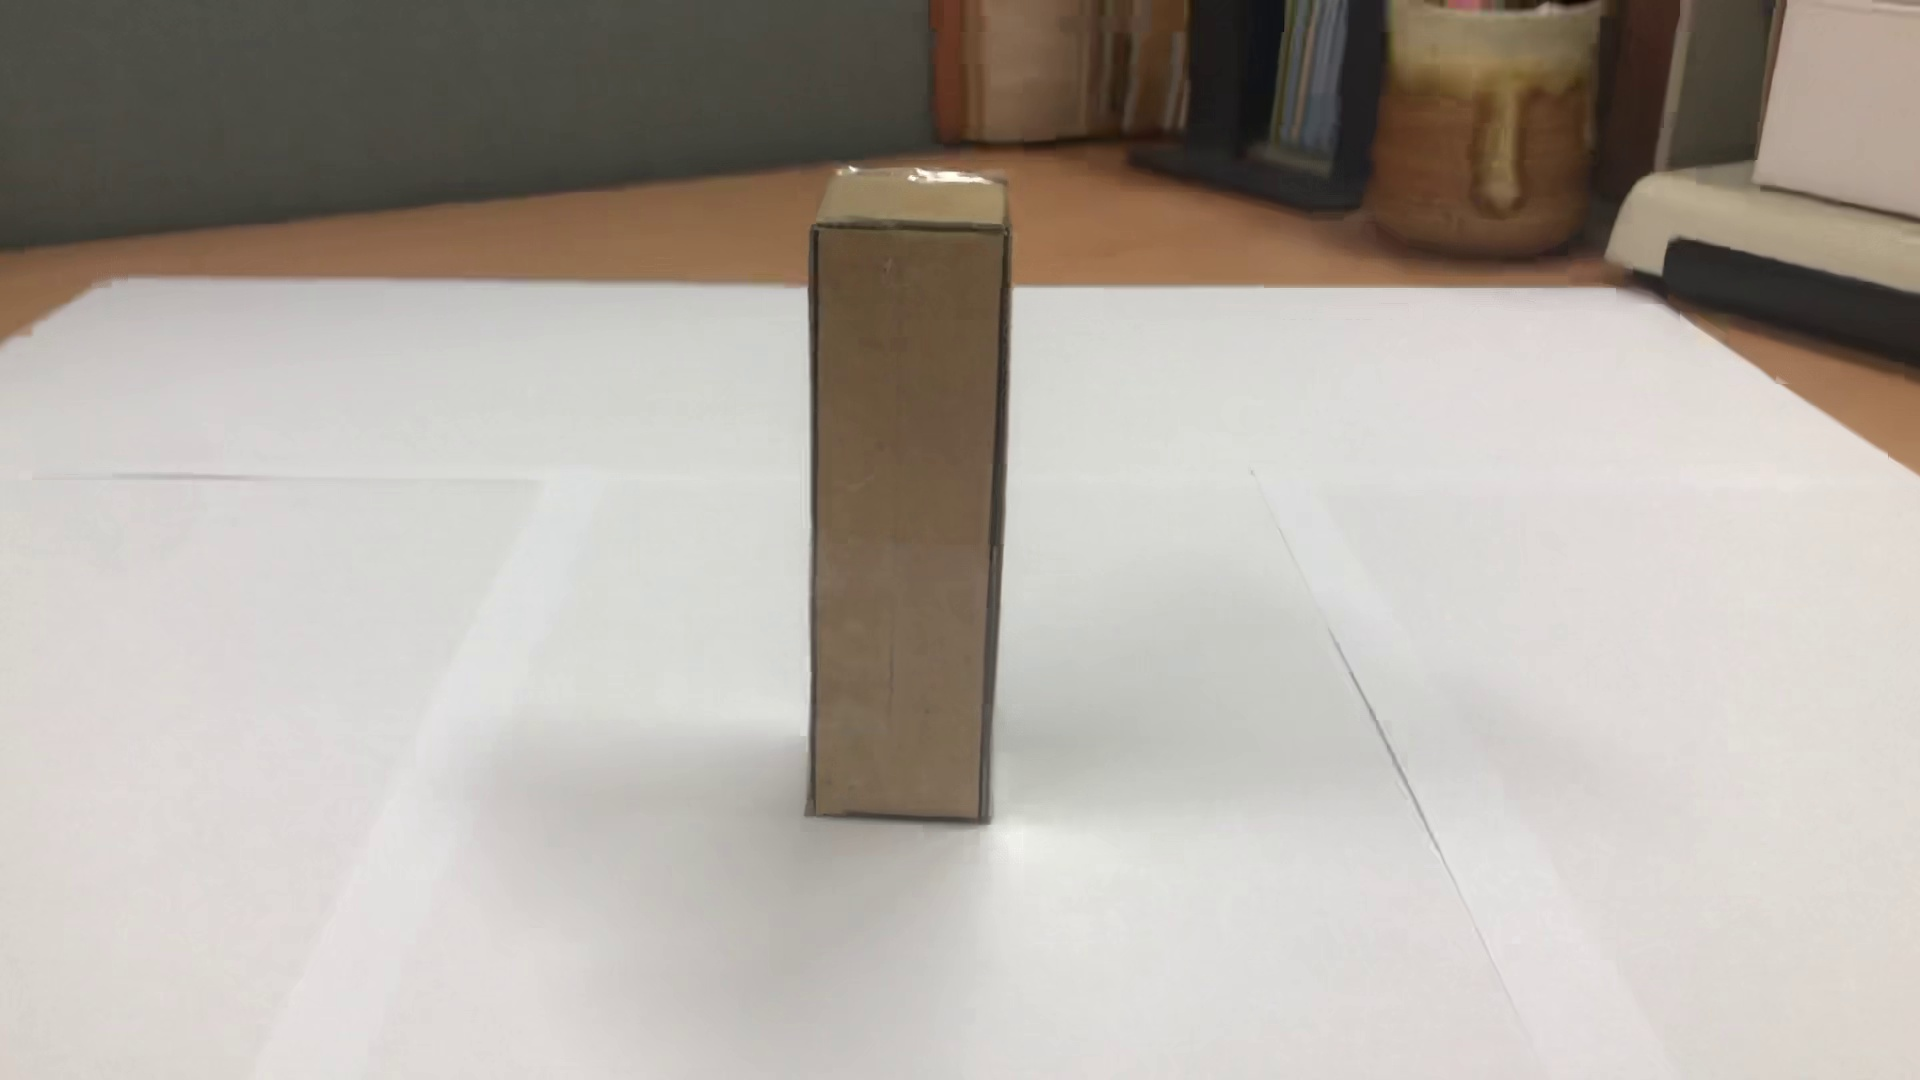box: (785, 152, 1034, 864)
